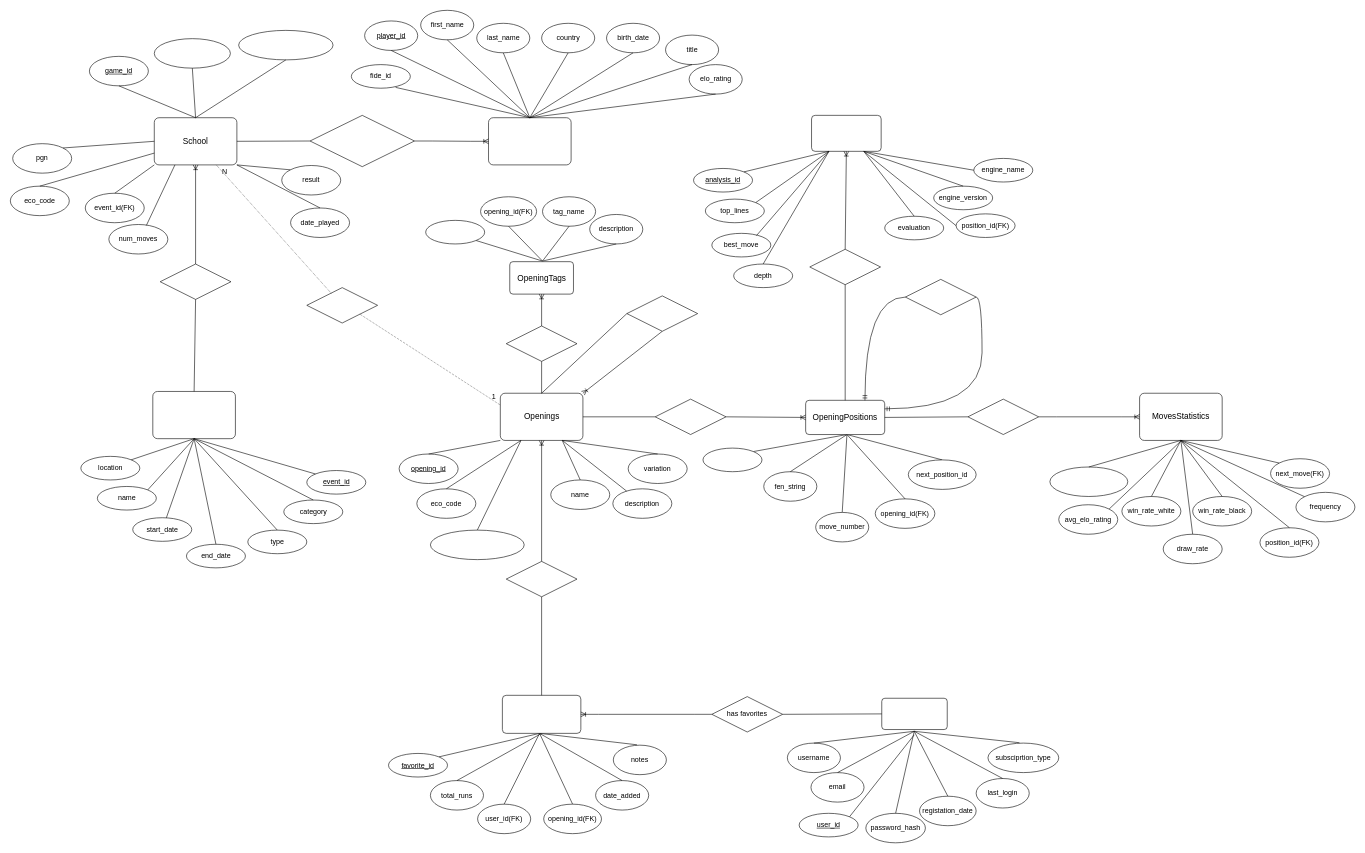
The diagram is 1365 pixels wide and 853 high, and some of its shapes have lost their labels. The shapes that lost their labels are listed below. From the top down, each one's centre as x and y in pixels, then its label:
the point at 192,53: white_player_id(FK)
the point at 285,45: black_player_id(FK)
the point at 361,141: Houses
the point at 529,141: Department
the point at 846,133: EngineAnalysis
the point at 455,232: tag_id
the point at 195,281: Offers
the point at 845,267: analyzed by
the point at 342,305: uses ECO code
the point at 662,313: has variations
the point at 940,297: followed by
the point at 541,343: tagged with
the point at 193,415: Program
the point at 690,417: has positions
the point at 1003,417: has stats
the point at 732,460: position_id
the point at 1088,481: postion_id, next_move
the point at 477,545: parent_opening_id(FK)
the point at 541,579: is favorited by
the point at 541,714: UserFavorites
the point at 914,714: User Accounts
